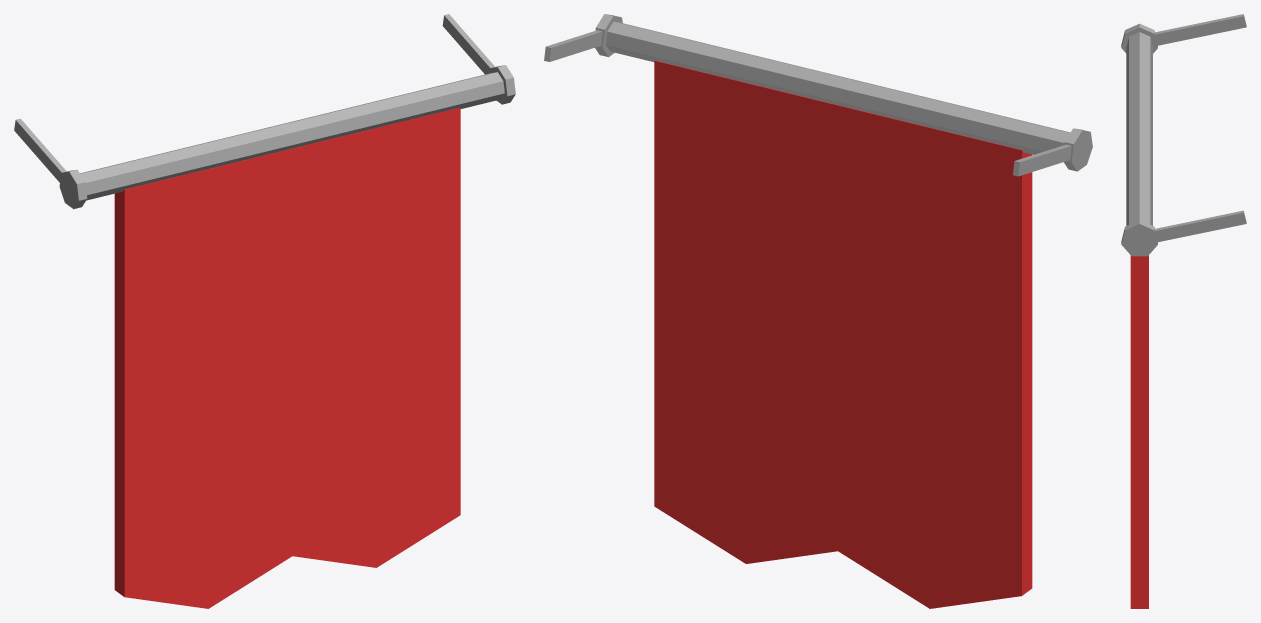
File: НавеснойФлаг2.FBX
The picture shows the model from 3 angles, left to right: view 1: azimuth 30°, elevation 25°; view 2: azimuth 150°, elevation 25°; view 3: azimuth 270°, elevation 25°; orthographic projection. The views are drawn at different scales.
Visible parts, largest first — view 1: Полотно, Держатель; view 2: Полотно, Держатель; view 3: Держатель, Полотно.
Part boxes in pixels (<box>): Полотно: <box>114,107,460,608</box>; Держатель: <box>14,14,515,209</box>; Полотно: <box>654,60,1032,608</box>; Держатель: <box>544,14,1092,176</box>; Держатель: <box>1121,14,1246,256</box>; Полотно: <box>1130,255,1148,608</box>.
Bounding box in the file's own units: 52 × 54.31 × 13.71.
